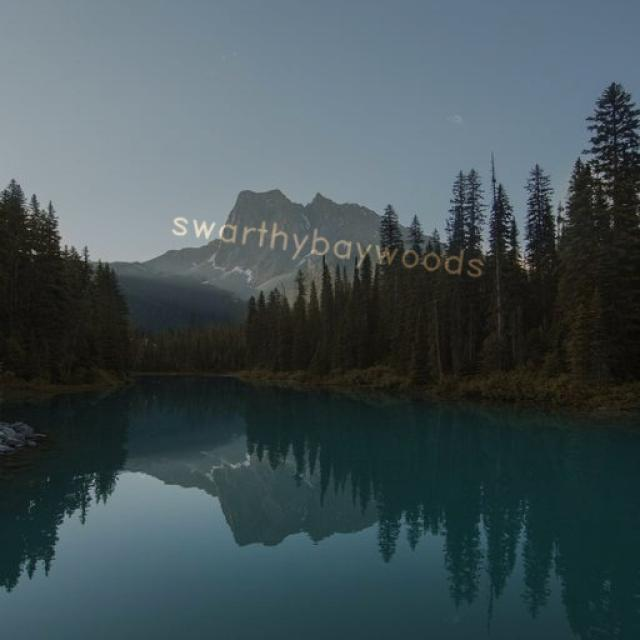watermark: (160, 206, 508, 283)
